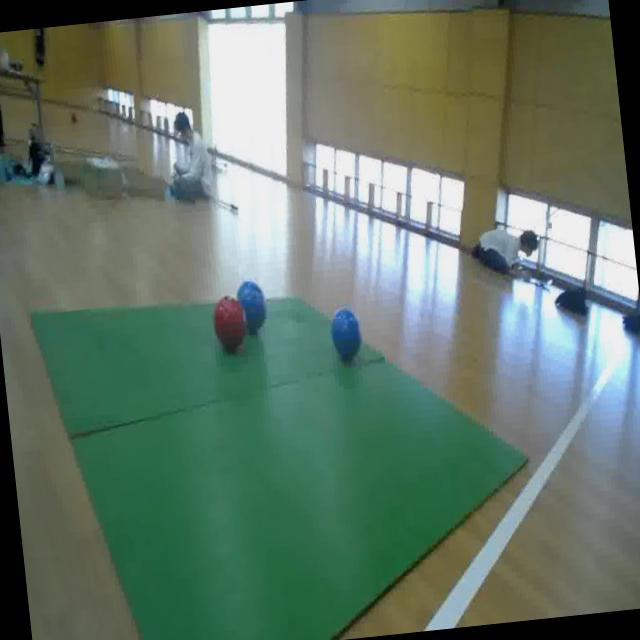blue_ball: (326, 303, 366, 368), (236, 270, 270, 338)
red_ball: (209, 290, 251, 356)
